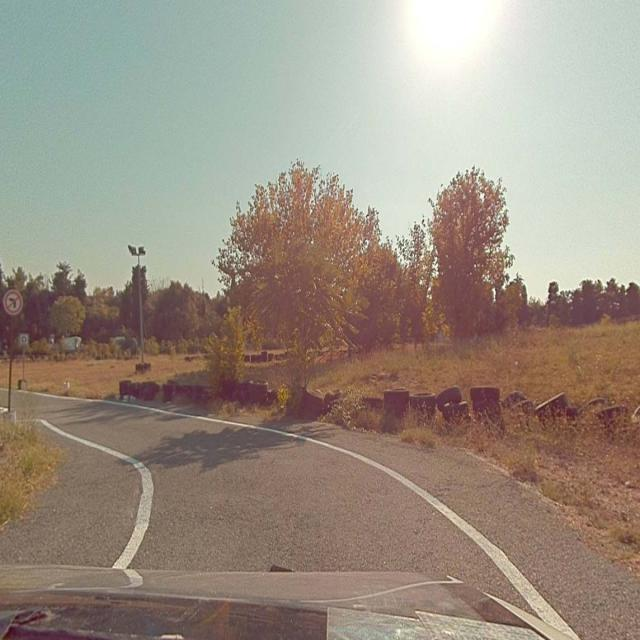soladonulmez: (6, 290, 22, 313)
